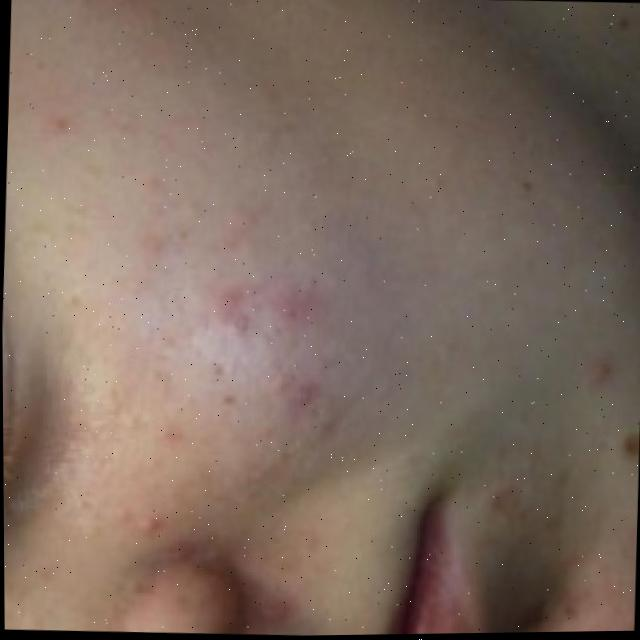Acne: (25, 78, 640, 550)
